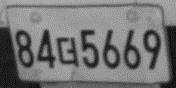4: (36, 29, 56, 68)
5: (80, 29, 99, 68)
6: (102, 29, 120, 69), (123, 29, 141, 69)
8: (14, 29, 33, 68)
9: (142, 29, 161, 70)
더: (55, 36, 77, 66)
